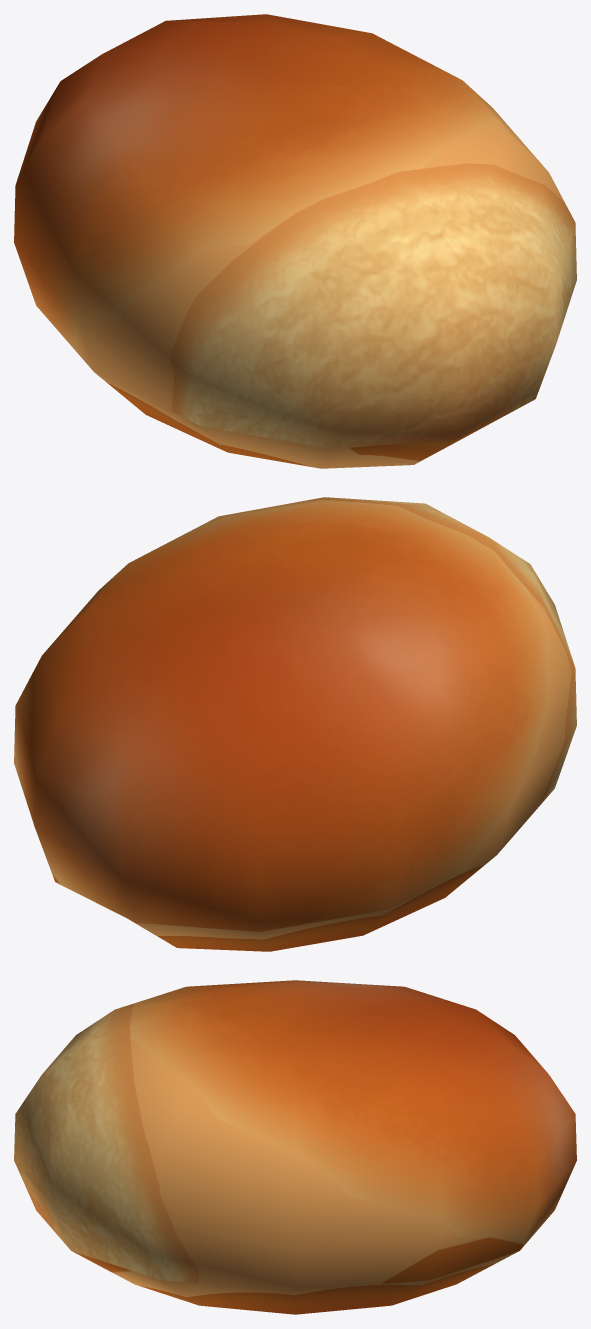
The model's file is Roll_01.fbx.
3 renders of one model, top to bottom at view 1: azimuth 30°, elevation 25°; view 2: azimuth 150°, elevation 25°; view 3: azimuth 270°, elevation 25°, orthographic. The views are drawn at different scales.
Visible parts, largest first — view 1: Roll_01; view 2: Roll_01; view 3: Roll_01.
Boxes of the visible parts, x1,y1,x2,y2 form: Roll_01: [14, 14, 576, 468]; Roll_01: [14, 497, 576, 951]; Roll_01: [14, 980, 576, 1314].
Bounding box in the file's own units: 36.05 × 25.52 × 49.48.
